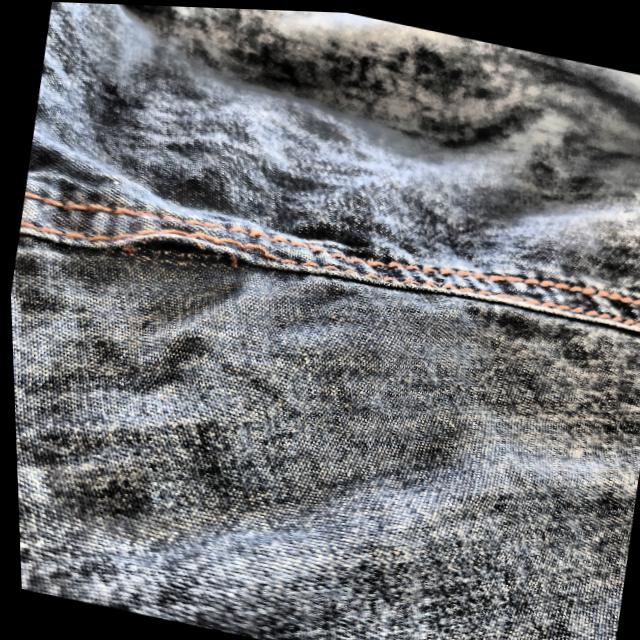seam: (70, 194, 293, 295)
